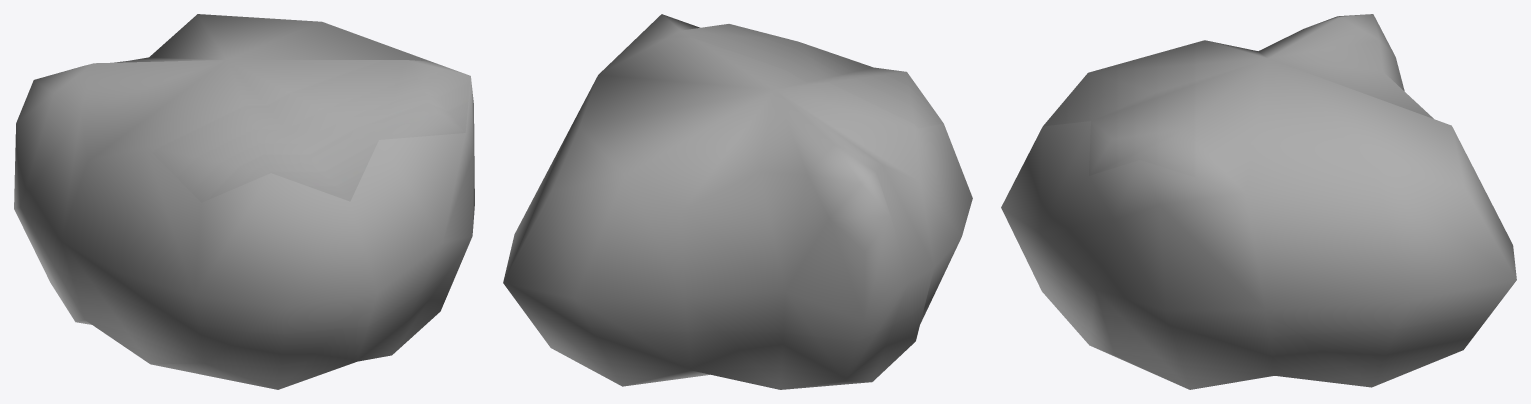
Rendered from Rock 05.FBX.
3 renders of one model, left to right at view 1: azimuth 30°, elevation 25°; view 2: azimuth 150°, elevation 25°; view 3: azimuth 270°, elevation 25°, orthographic. The views are drawn at different scales.
Parts seen in each view (by area): view 1: Box001; view 2: Box001; view 3: Box001.
Part boxes in pixels (x1,y1,x2,y2): Box001: [14, 14, 474, 389]; Box001: [503, 14, 972, 389]; Box001: [1001, 14, 1516, 389].
Bounding box in the file's own units: 31.29 × 22.68 × 36.41.
